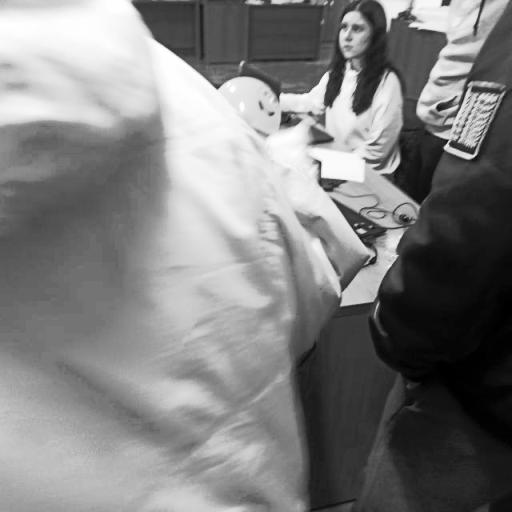balloon: (214, 77, 280, 133)
